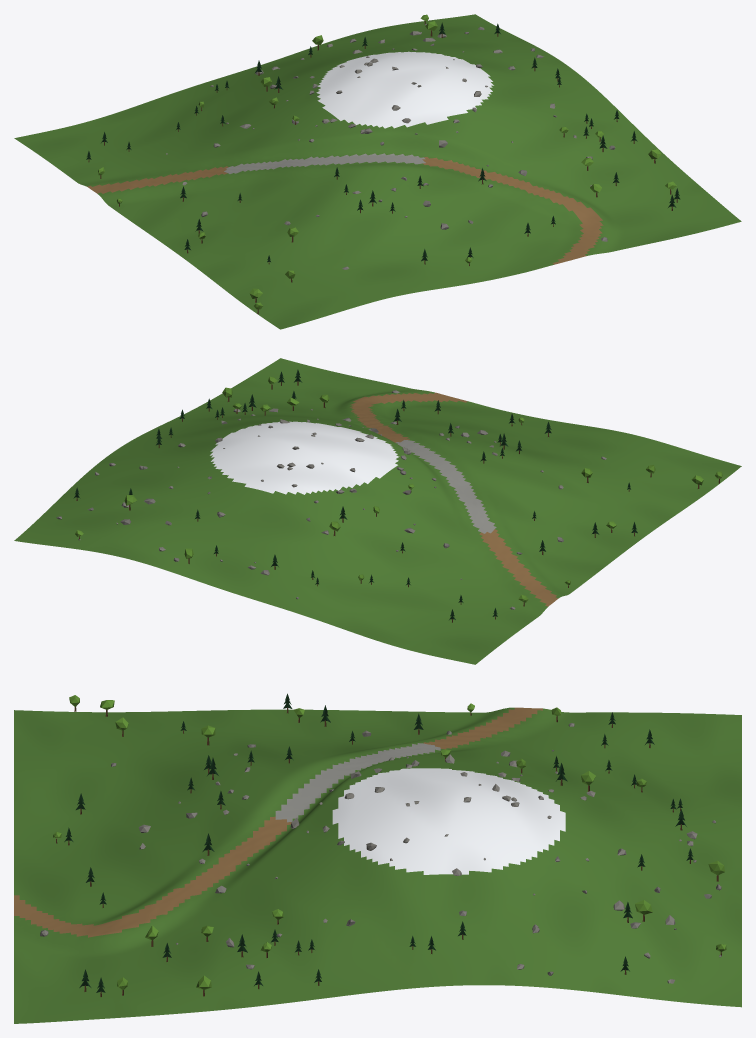
File: chunk_1_0.glb
3 renders of one model, top to bottom at view 1: azimuth 30°, elevation 25°; view 2: azimuth 150°, elevation 25°; view 3: azimuth 270°, elevation 25°, orthographic. The views are drawn at different scales.
Visible parts, largest first — view 1: Surface_Grass, Surface_Snow, Surface_Dirt, Props_Rocks, Surface_Gravel, Props_Pines, Props_Leaves; view 2: Surface_Grass, Surface_Snow, Surface_Dirt, Surface_Gravel, Props_Rocks, Props_Pines, Props_Leaves; view 3: Surface_Grass, Surface_Snow, Surface_Dirt, Props_Rocks, Props_Pines, Surface_Gravel, Props_Leaves, Props_Trunks.
Boxes of the visible parts, x1=… form: Surface_Grass: x1=14, y1=14, x2=741, y2=329; Surface_Snow: x1=316, y1=51, x2=493, y2=128; Surface_Dirt: x1=87, y1=157, x2=603, y2=264; Props_Rocks: x1=166, y1=24, x2=615, y2=269; Surface_Gravel: x1=224, y1=153, x2=425, y2=173; Props_Pines: x1=86, y1=22, x2=680, y2=262; Props_Leaves: x1=98, y1=14, x2=676, y2=309; Surface_Grass: x1=14, y1=358, x2=741, y2=664; Surface_Snow: x1=210, y1=421, x2=399, y2=494; Surface_Dirt: x1=350, y1=392, x2=558, y2=606; Surface_Gravel: x1=395, y1=440, x2=496, y2=533; Props_Rocks: x1=56, y1=390, x2=606, y2=609; Props_Pines: x1=73, y1=369, x2=637, y2=619; Props_Leaves: x1=75, y1=376, x2=722, y2=602; Surface_Grass: x1=14, y1=707, x2=741, y2=1023; Surface_Snow: x1=332, y1=768, x2=565, y2=874; Surface_Dirt: x1=14, y1=707, x2=542, y2=937; Props_Rocks: x1=40, y1=723, x2=721, y2=983; Props_Pines: x1=64, y1=693, x2=693, y2=992; Surface_Gravel: x1=275, y1=743, x2=440, y2=822; Props_Leaves: x1=53, y1=695, x2=726, y2=989; Props_Trunks: x1=56, y1=707, x2=721, y2=996.
Bounding box in the file's own units: 258 × 41.35 × 256.
